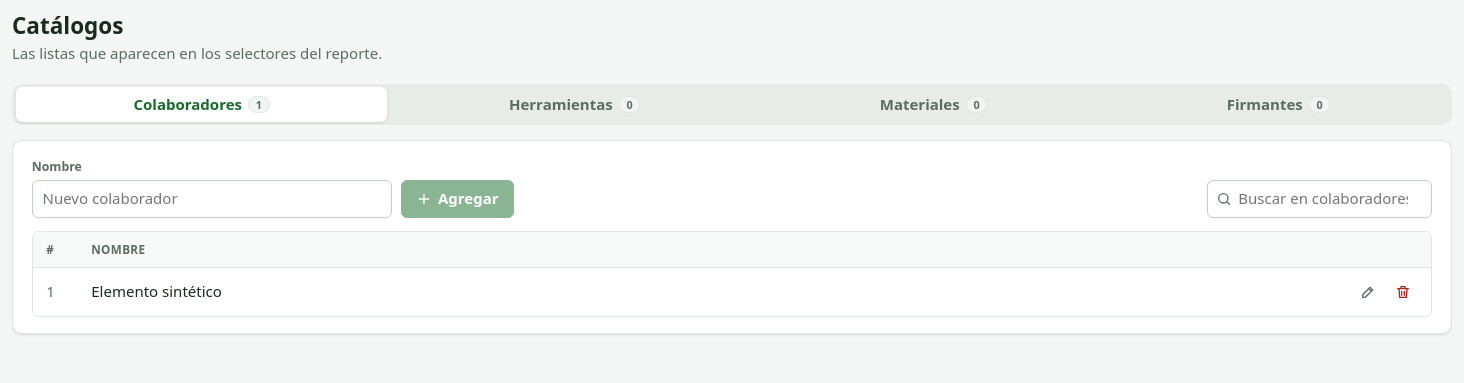
Test: impide agregar un nombre repetido sin importar acentos ni mayúsculas
The image size is (1464, 383).
Expected: the text "Elemento sintético" is shown, 78,267 -> 1339,316
Type "  elemento SINTETICO " into the field labelled "Nombre" at (212, 199), box 32,180 -> 392,218
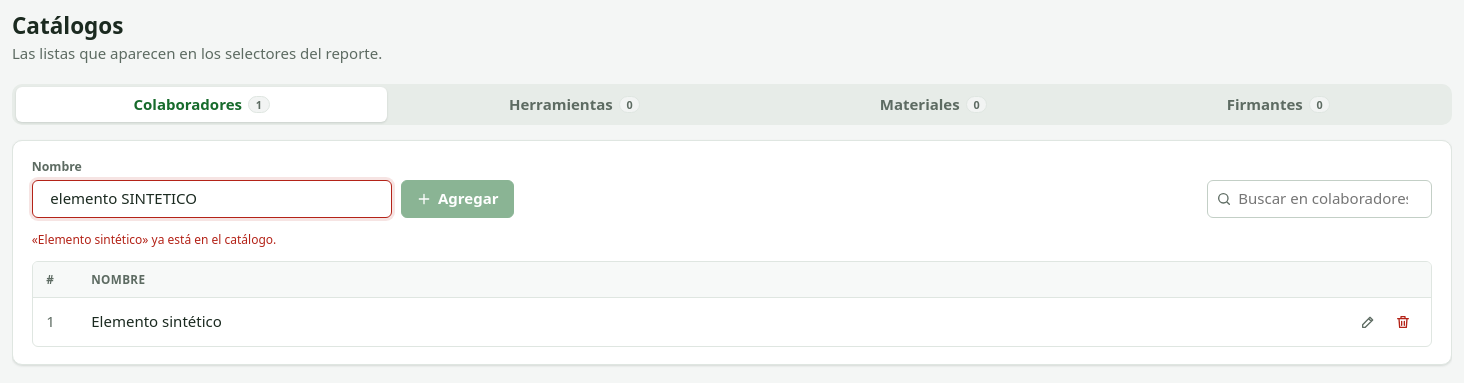
Expected: the button "Agregar" is disabled, 401,180 -> 514,218
Now the message shows "ya está en el catálogo", box 142,231 -> 276,248
